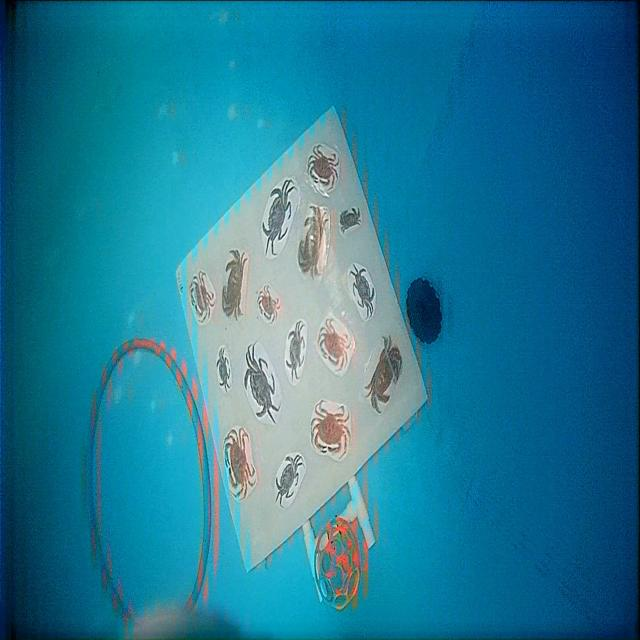GreenCrab: (244, 343, 280, 423), (262, 179, 294, 256), (349, 264, 374, 317), (285, 320, 304, 383)
